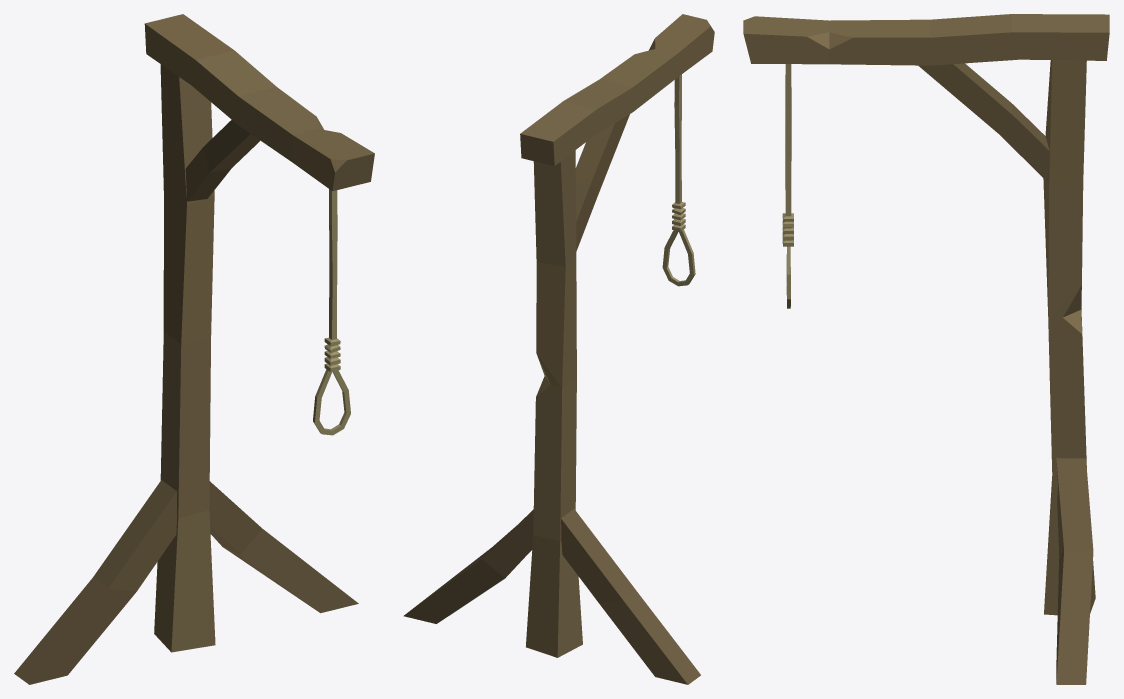
File: Gallows_1.fbx
The picture shows the model from 3 angles, left to right: view 1: azimuth 30°, elevation 25°; view 2: azimuth 150°, elevation 25°; view 3: azimuth 270°, elevation 25°; orthographic projection. The views are drawn at different scales.
Visible parts, largest first — view 1: Gallows_1; view 2: Gallows_1; view 3: Gallows_1.
Boxes of the visible parts, x1=… form: Gallows_1: x1=14, y1=14, x2=374, y2=684; Gallows_1: x1=403, y1=14, x2=714, y2=684; Gallows_1: x1=743, y1=14, x2=1109, y2=684.
Bounding box in the file's own units: 227 × 398 × 226.
